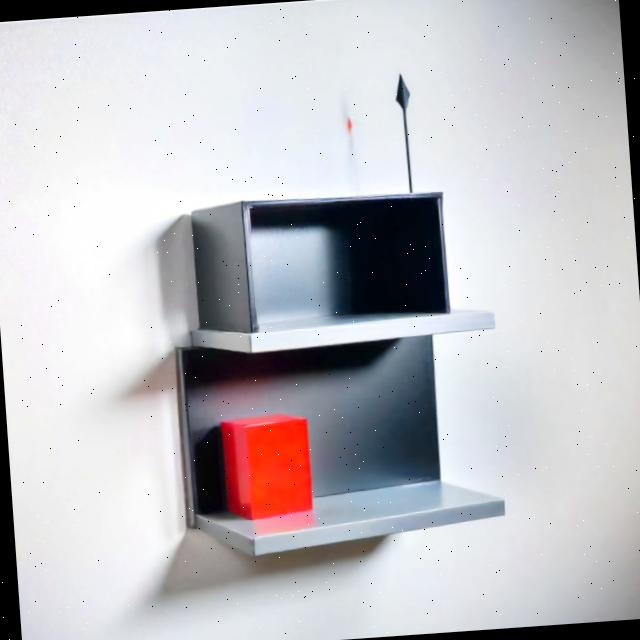red_block: (216, 409, 319, 520)
